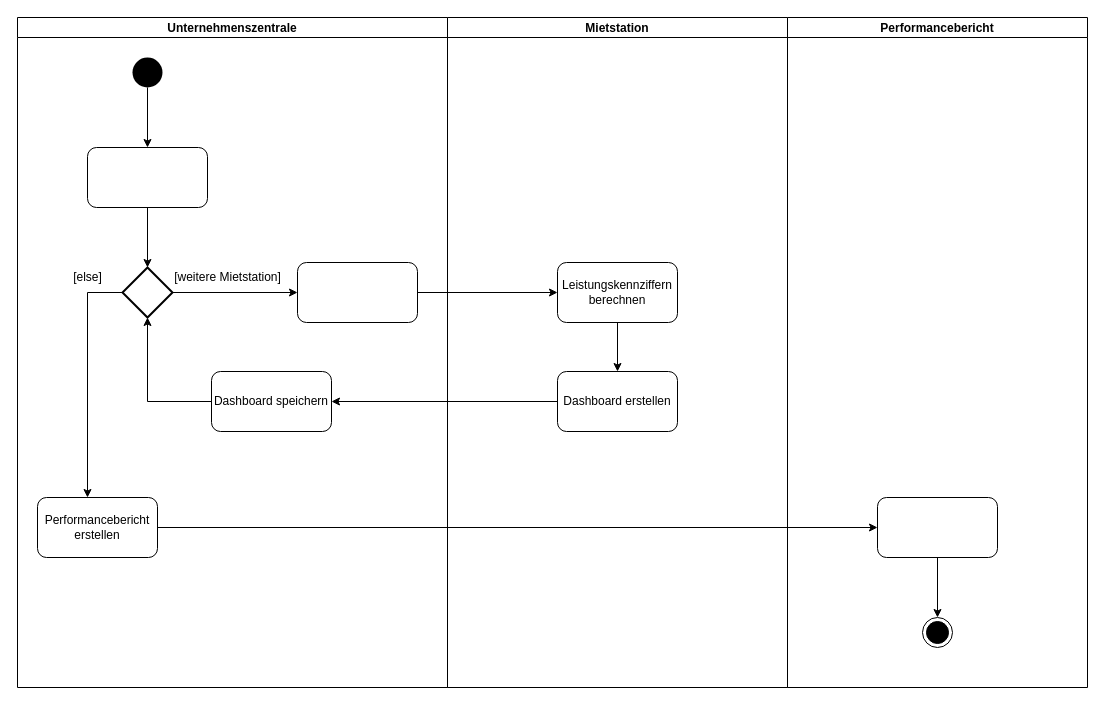
This 1105x705 diagram has some shape labels left out. The centre of each missing label's shape, as x and y in pixels:
Dashboard anfragen: pixel 357 292
Mietstationen abrufen: pixel 147 177
Performancebericht anzeigen: pixel 937 527
